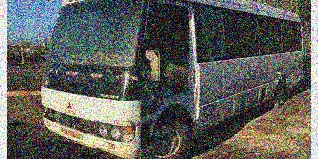bus: (40, 0, 304, 159)
